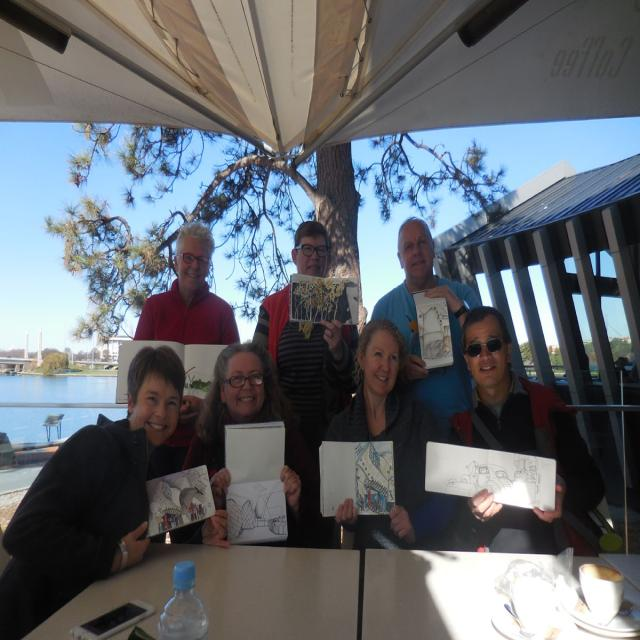body: (0, 339, 187, 639), (442, 306, 603, 557), (132, 219, 242, 546), (318, 318, 448, 550), (369, 215, 485, 448), (181, 338, 307, 548), (250, 218, 363, 448), (559, 348, 639, 386)
